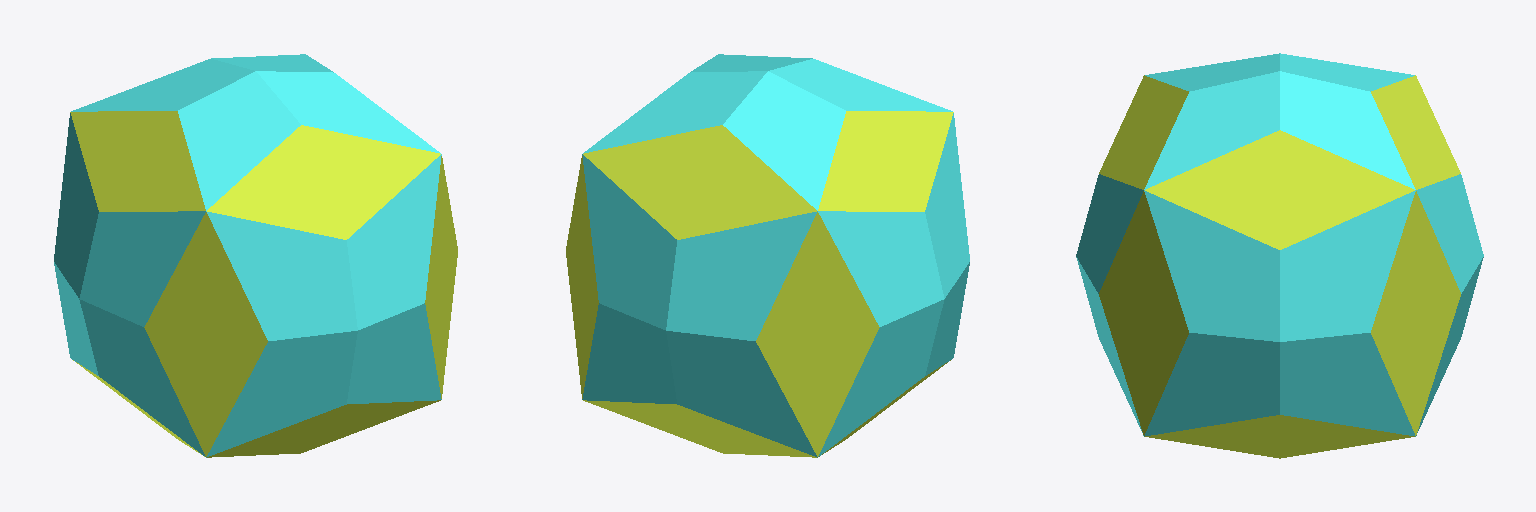
Rendered from JoinedTruncatedOctahedron.obj.
3 views of the same model, side by side, from view 1: azimuth 30°, elevation 25°; view 2: azimuth 150°, elevation 25°; view 3: azimuth 270°, elevation 25° (orthographic).
Size of the model in its own units: 3.18 by 3.18 by 3.18.